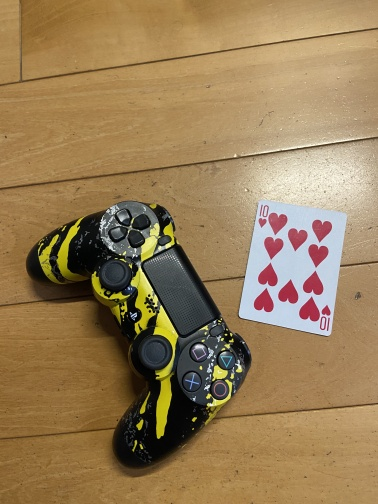ten: (237, 197, 349, 339)
